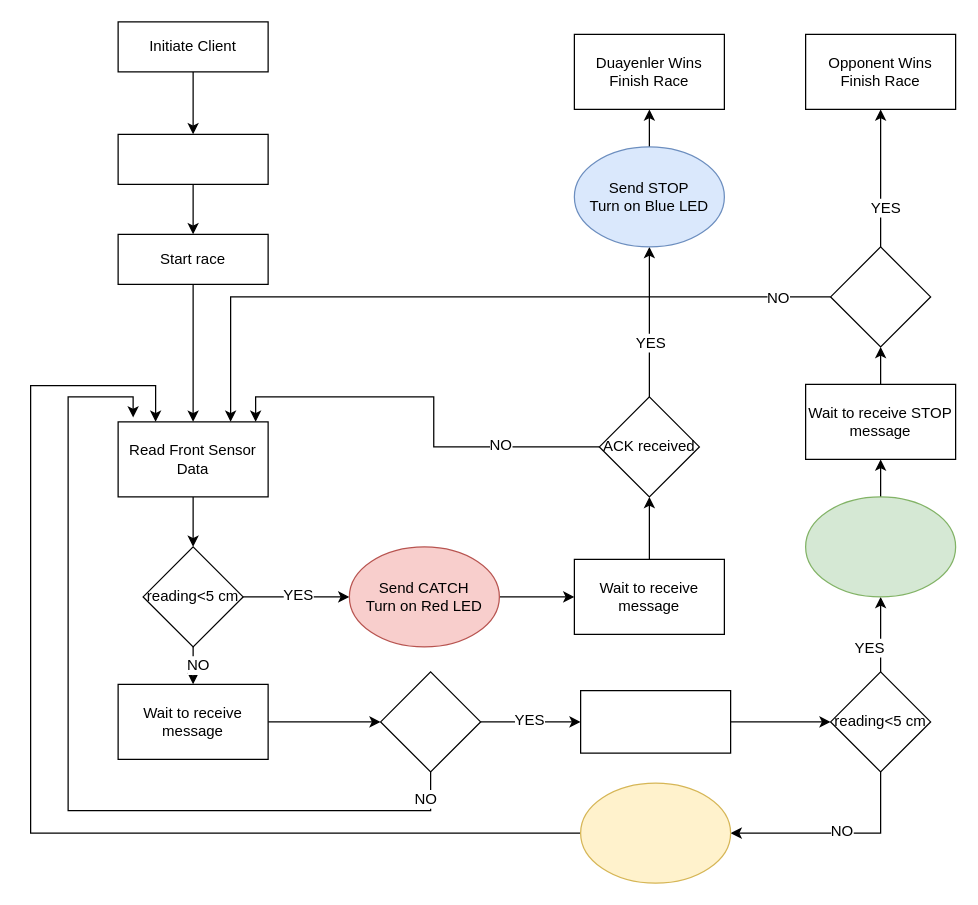
Some shapes in this 978 by 905 pixel diagram are drawn without their labels. The shapes that lost their labels are listed below. From the top down, each one's box as (x1, y1, x2, y2) in pixels, then its label:
(117, 133, 268, 184): Connect to server
(829, 246, 931, 347): STOP received
(804, 496, 956, 597): Send ACK Turn on Green LED
(379, 671, 481, 772): CATCH received
(579, 689, 731, 753): Read Back Sensor Data
(579, 782, 731, 883): Send REJ Turn on Yellow LED
